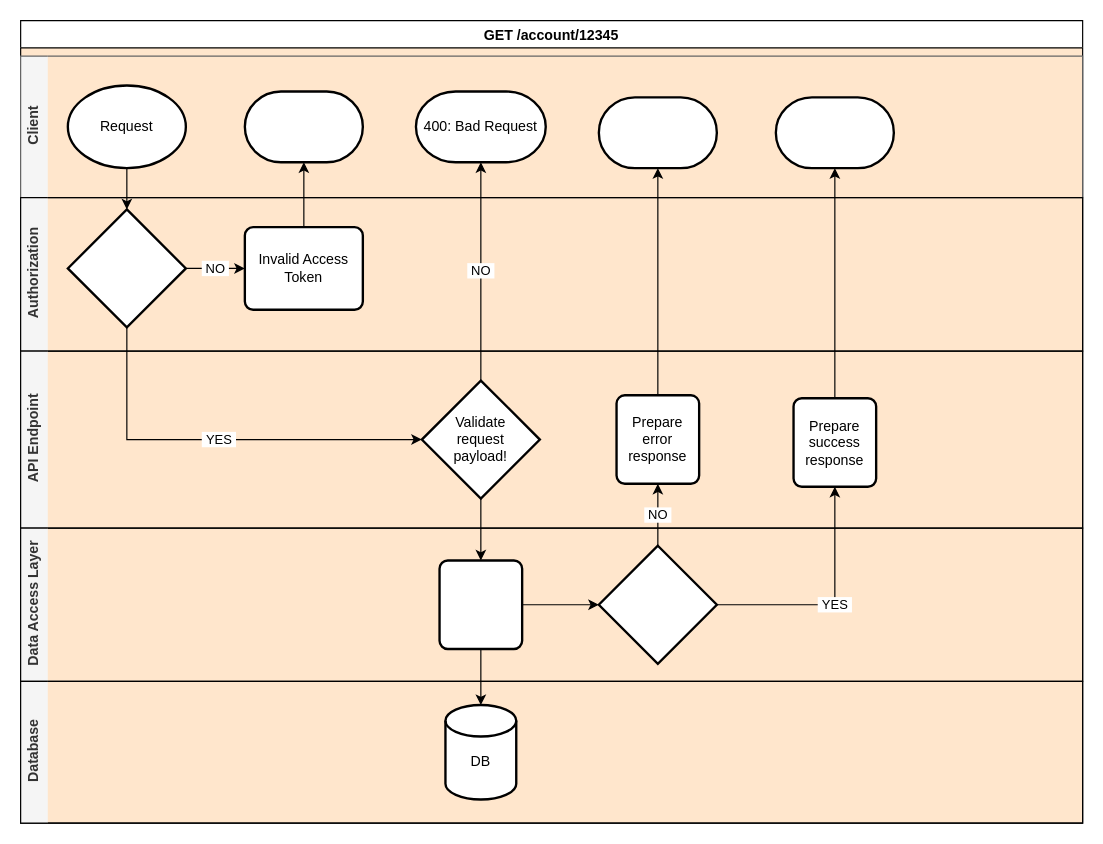
Image size: 1103x844. Some labels were removed from this diagram. Each missing label, with the centre of its shape:
200: Response: [834,132]
401: Unauthorised: [303,126]
404: Not Found: [657,132]
Authorized?: [126,268]
Found details?: [657,604]
Query Account Details: [480,604]
